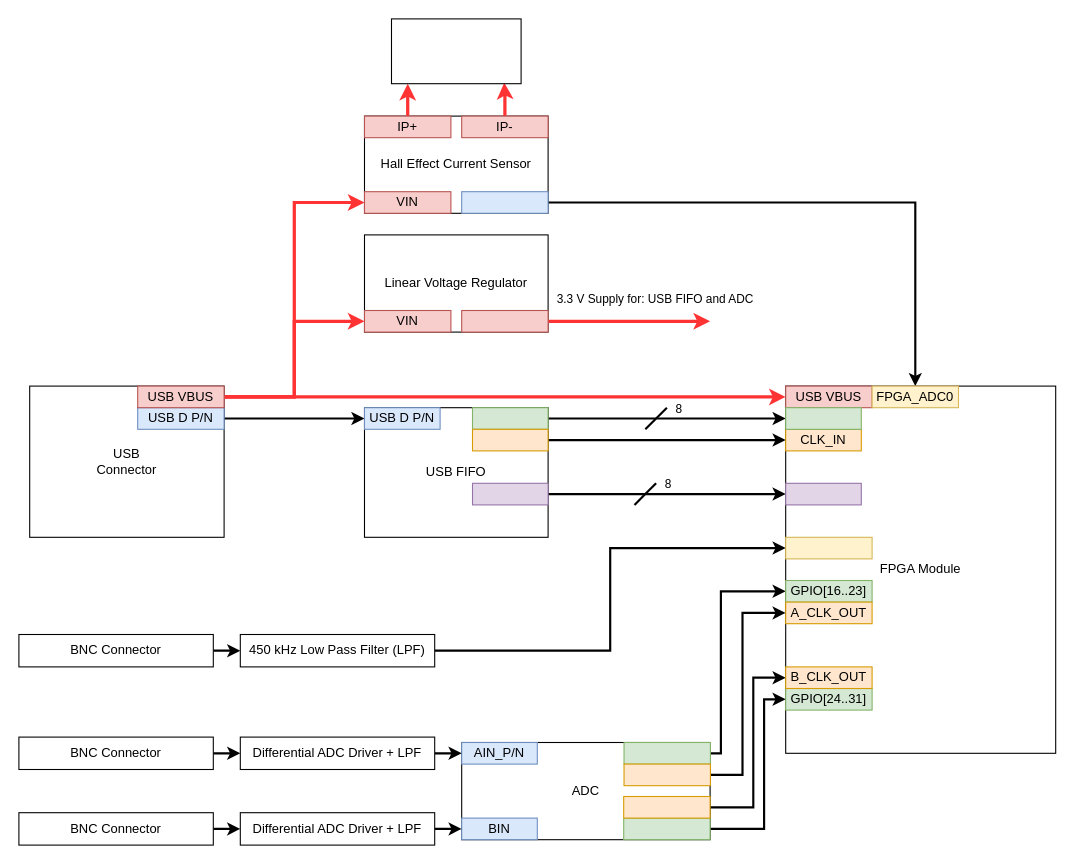
Some shapes in this 1075 by 864 pixel diagram are drawn without their labels. Here are the shapes that lost their labels. From the top down, the centre of each, then its label:
At pixel 455 51: "Two Pin Current Probe Header".
At pixel 504 202: "VIOUT".
At pixel 504 320: "VOUT_3V3".
At pixel 509 418: "DATA[0..7]".
At pixel 823 418: "GPIO[0..7]".
At pixel 509 439: "CLK_OUT".
At pixel 509 493: "ACBUS[0..7]".
At pixel 823 493: "GPIO[8..15]".
At pixel 828 547: "FPGA_ADC1".
At pixel 666 752: "A_DATA[0..7]".
At pixel 666 774: "A_CLK".
At pixel 666 806: "B_CLK".
At pixel 666 828: "B_DATA[0..7]".
